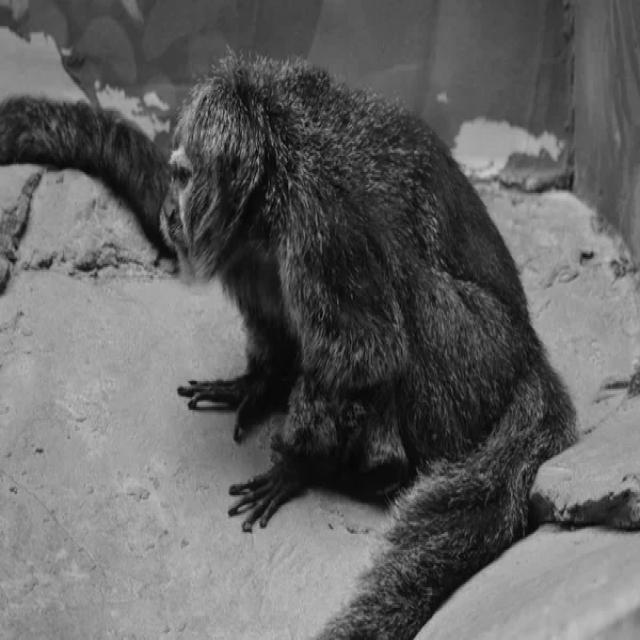Animal: (165, 50, 575, 640)
